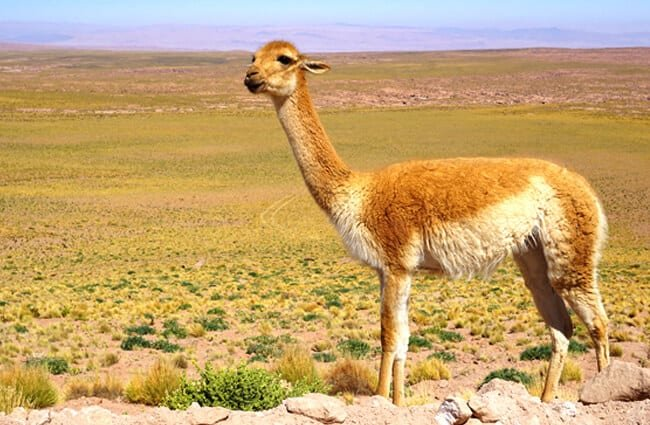eye: (271, 48, 293, 69)
mouth: (244, 75, 269, 95)
